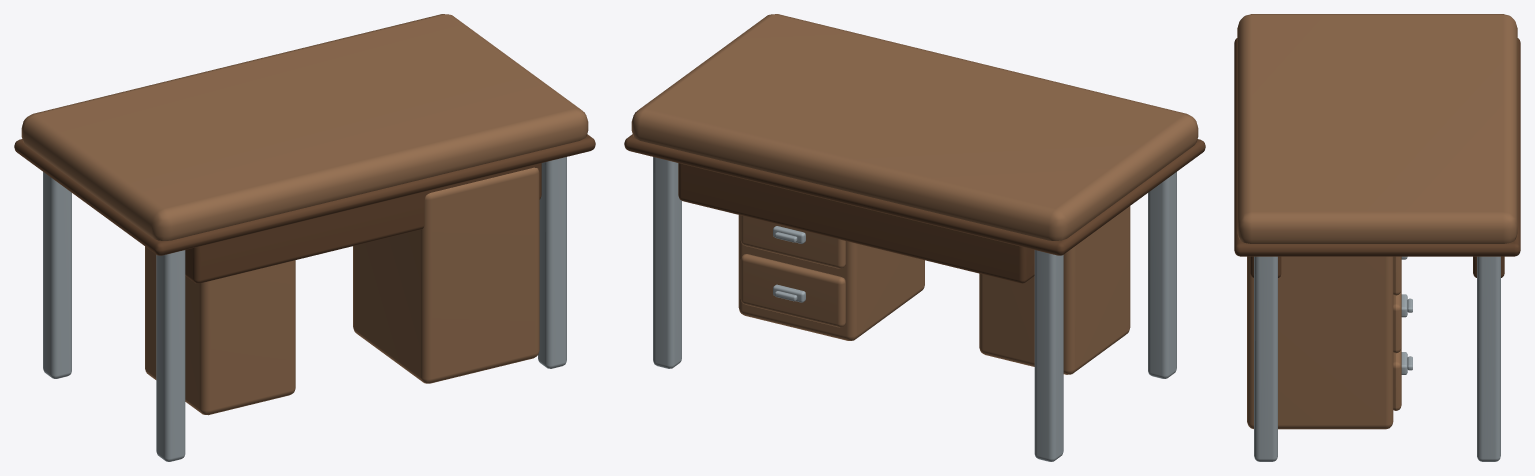
The model's file is UKSTableModel.glb.
The picture shows the model from 3 angles, left to right: view 1: azimuth 30°, elevation 25°; view 2: azimuth 150°, elevation 25°; view 3: azimuth 270°, elevation 25°; orthographic projection.
Parts seen in each view (by area): view 1: TableTop, DrawerPedestal, LeftStoragePanel, BackApron, TableTopEdge, TableLeg_-0.68_0.35, TableLeg_0.68_0.35, TableLeg_-0.68_-0.35; view 2: TableTop, FrontApron, LeftStoragePanel, TableTopEdge, DrawerPedestal, TableLeg_-0.68_-0.35, TableLeg_0.68_-0.35, TableLeg_-0.68_0.35, DrawerFront_3, DrawerFront_2; view 3: TableTop, DrawerPedestal, TableTopEdge, TableLeg_0.68_0.35, TableLeg_0.68_-0.35, DrawerFront_2, DrawerFront_3, DrawerFront_1.
Boxes of the visible parts, box(x1,y1,x2,y2) form: TableTop: box(21, 14, 588, 240); DrawerPedestal: box(353, 167, 539, 383); LeftStoragePanel: box(145, 246, 295, 415); BackApron: box(185, 163, 541, 283); TableTopEdge: box(14, 134, 595, 255); TableLeg_-0.68_0.35: box(156, 250, 185, 461); TableLeg_0.68_0.35: box(538, 157, 566, 368); TableLeg_-0.68_-0.35: box(43, 172, 71, 378); TableTop: box(631, 14, 1198, 240); FrontApron: box(678, 163, 1034, 283); LeftStoragePanel: box(979, 206, 1130, 374); TableTopEdge: box(624, 134, 1205, 255); DrawerPedestal: box(738, 215, 924, 340); TableLeg_-0.68_-0.35: box(1034, 250, 1063, 461); TableLeg_0.68_-0.35: box(653, 157, 681, 368); TableLeg_-0.68_0.35: box(1148, 172, 1176, 378); DrawerFront_3: box(740, 254, 845, 327); DrawerFront_2: box(740, 215, 845, 268); TableTop: box(1237, 14, 1517, 243); DrawerPedestal: box(1247, 256, 1393, 429); TableTopEdge: box(1234, 38, 1520, 256); TableLeg_0.68_0.35: box(1254, 256, 1277, 461); TableLeg_0.68_-0.35: box(1477, 256, 1500, 461); DrawerFront_2: box(1393, 290, 1401, 353); DrawerFront_3: box(1393, 348, 1401, 410); DrawerFront_1: box(1393, 256, 1401, 295).
Size of the model in its own units: 1.57 by 0.88 by 0.9.
